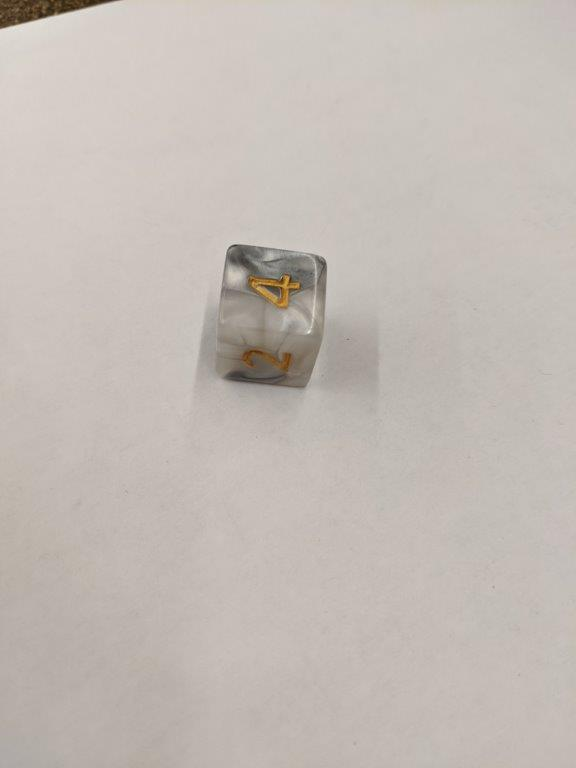d6-4: (210, 241, 330, 390)
